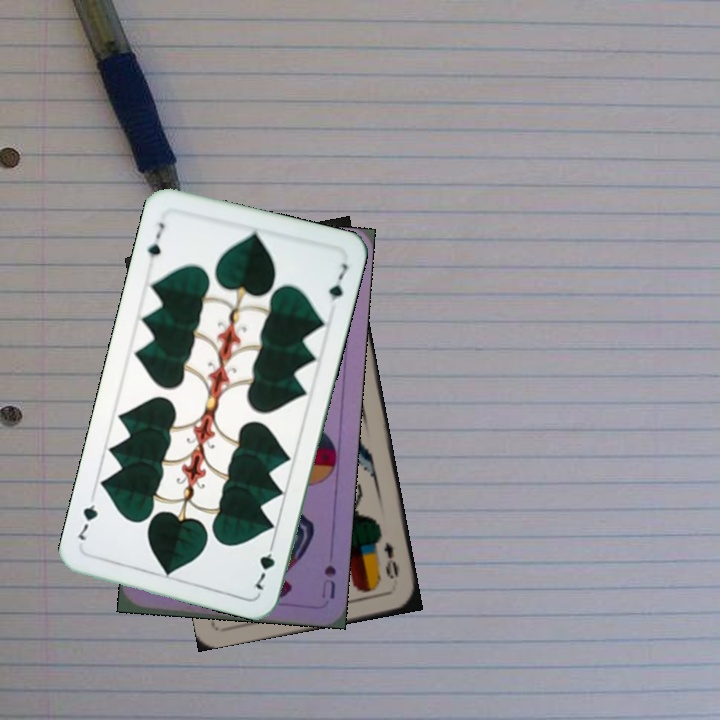EO: (379, 538, 401, 582)
G7: (251, 536, 278, 593), (143, 218, 167, 260)
SU: (318, 561, 339, 601)
